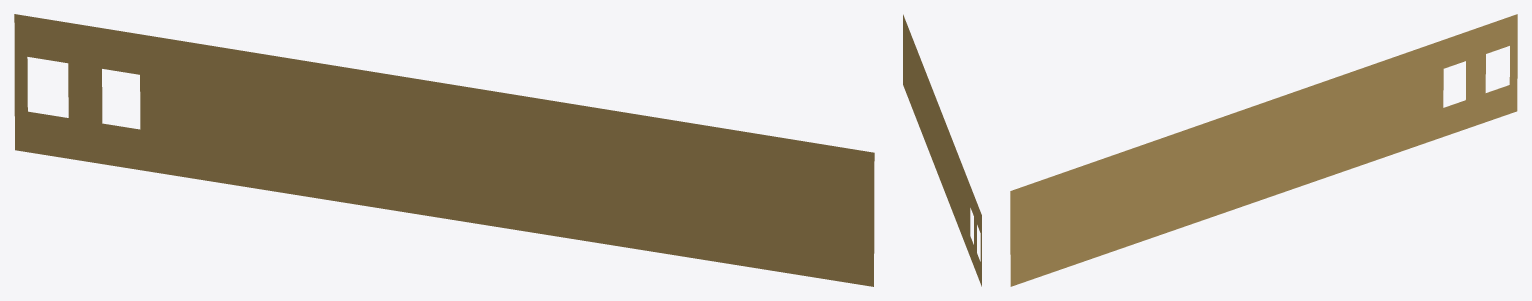
Rendered from lamp_head_material.006_0_lev1.glb.
The picture shows the model from 3 angles, left to right: view 1: azimuth 30°, elevation 25°; view 2: azimuth 150°, elevation 25°; view 3: azimuth 270°, elevation 25°; orthographic projection. The views are drawn at different scales.
Parts seen in each view (by area): view 1: lamp_head_material.006_0_lev1; view 2: lamp_head_material.006_0_lev1; view 3: lamp_head_material.006_0_lev1.
Boxes of the visible parts, x1=… form: lamp_head_material.006_0_lev1: x1=14, y1=14, x2=874, y2=286; lamp_head_material.006_0_lev1: x1=903, y1=14, x2=981, y2=286; lamp_head_material.006_0_lev1: x1=1010, y1=14, x2=1517, y2=286.
Size of the model in its own units: 31.65 by 8.16 by 38.58.
